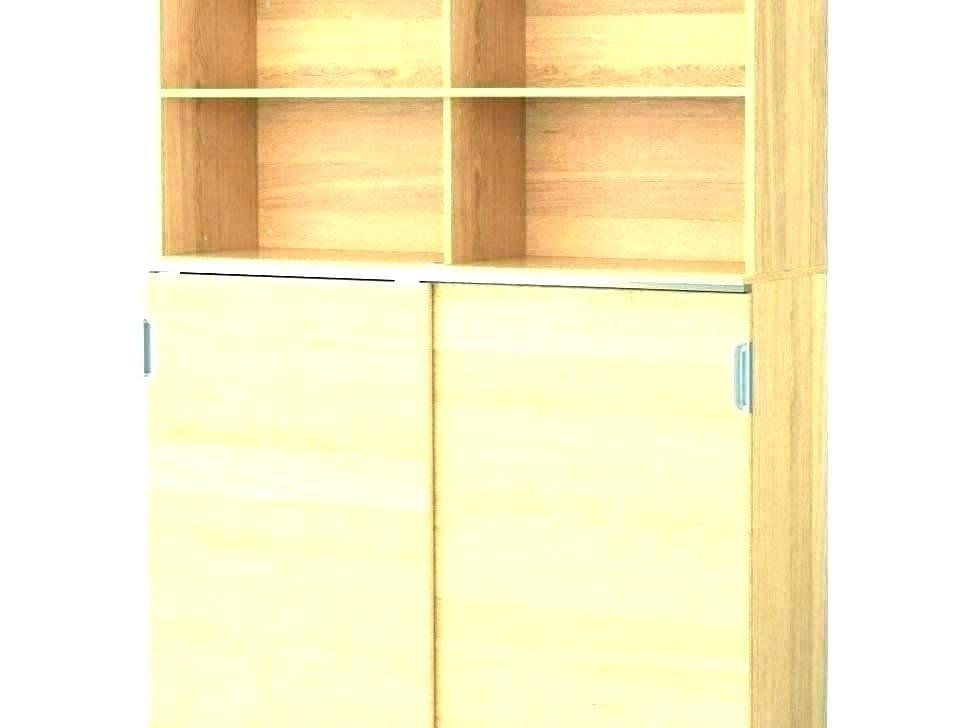cabinet_door: (435, 286, 750, 719), (148, 285, 426, 728)
